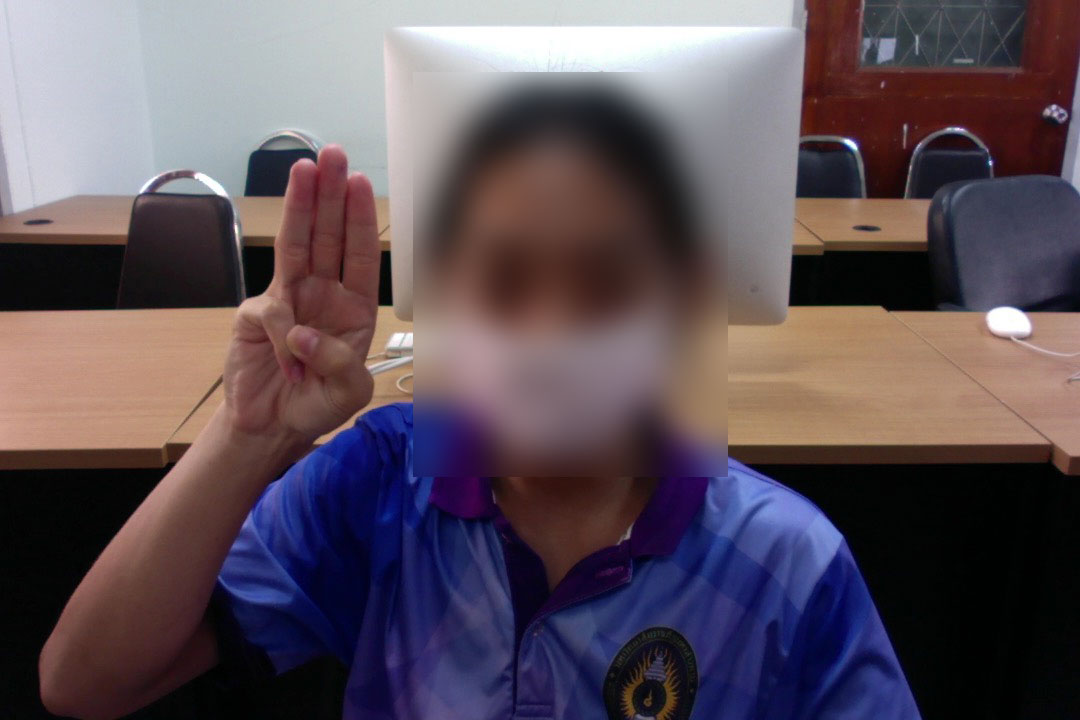wor: (202, 142, 392, 451)
